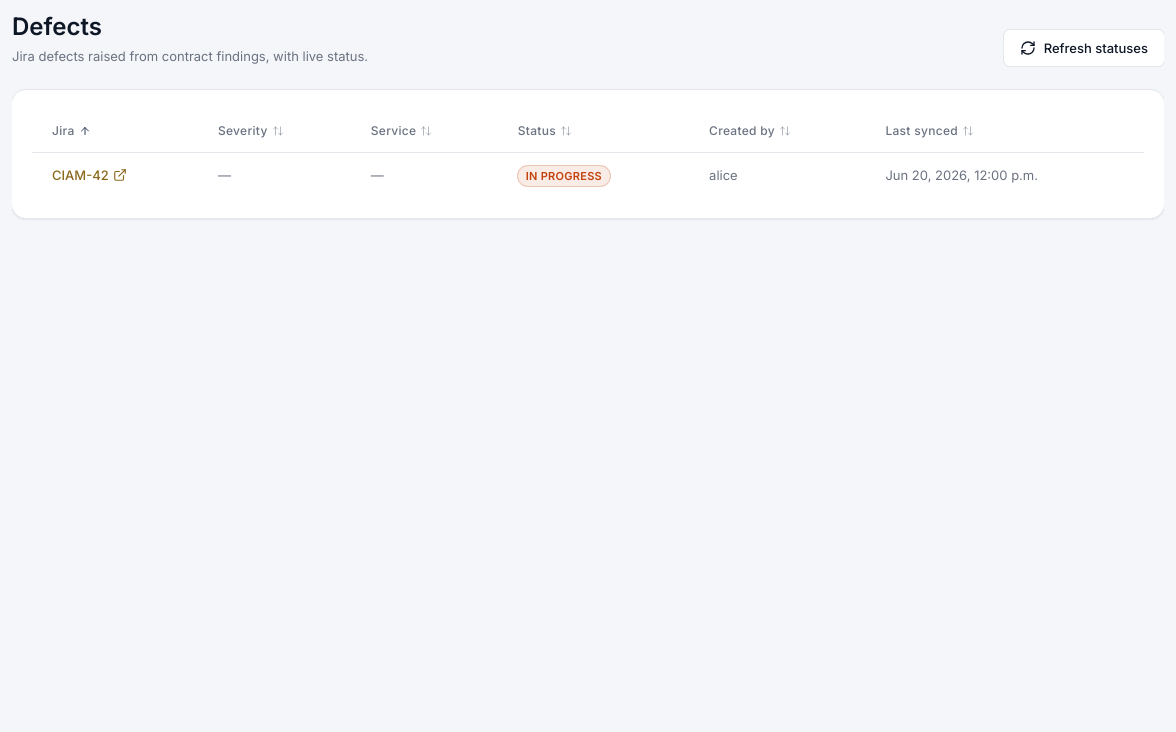
Test case: Defects page › shows an error toast when the sync request fails
The image size is (1176, 732).
expect the link "CIAM-42" is shown: met, box [52, 165, 127, 185]
What coordinates should you click on to do the following:
click the button "Refresh statuses"
I would click on:
 (1084, 48)
Its box is [1004, 30, 1164, 66].
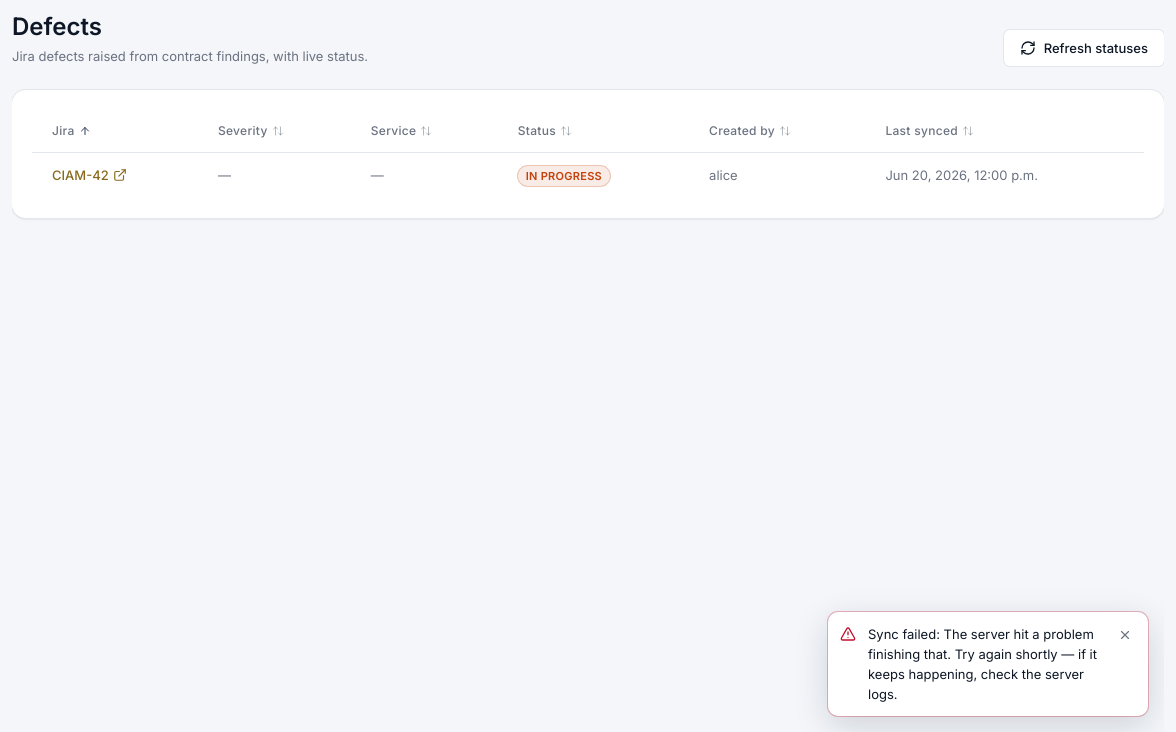
expect the message is shown: met, box [828, 612, 1148, 716]
expect the text "Sync failed:" is shown: met, box [868, 626, 1097, 702]
